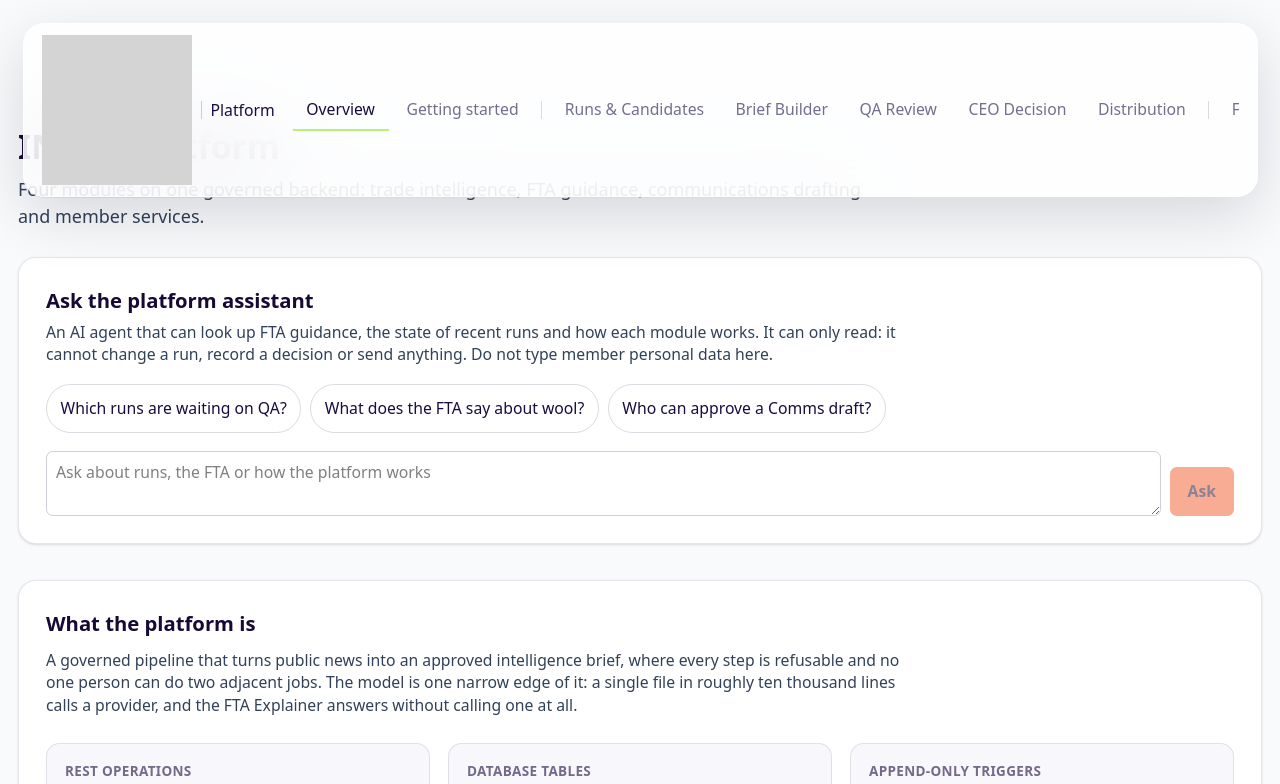
Test case: AppShell › opens on the newest run that has not finished
What coordinates should you click on to do the following:
click the button "Brief Builder"
I would click on:
 (782, 110)
Its box is [722,88,842,131].
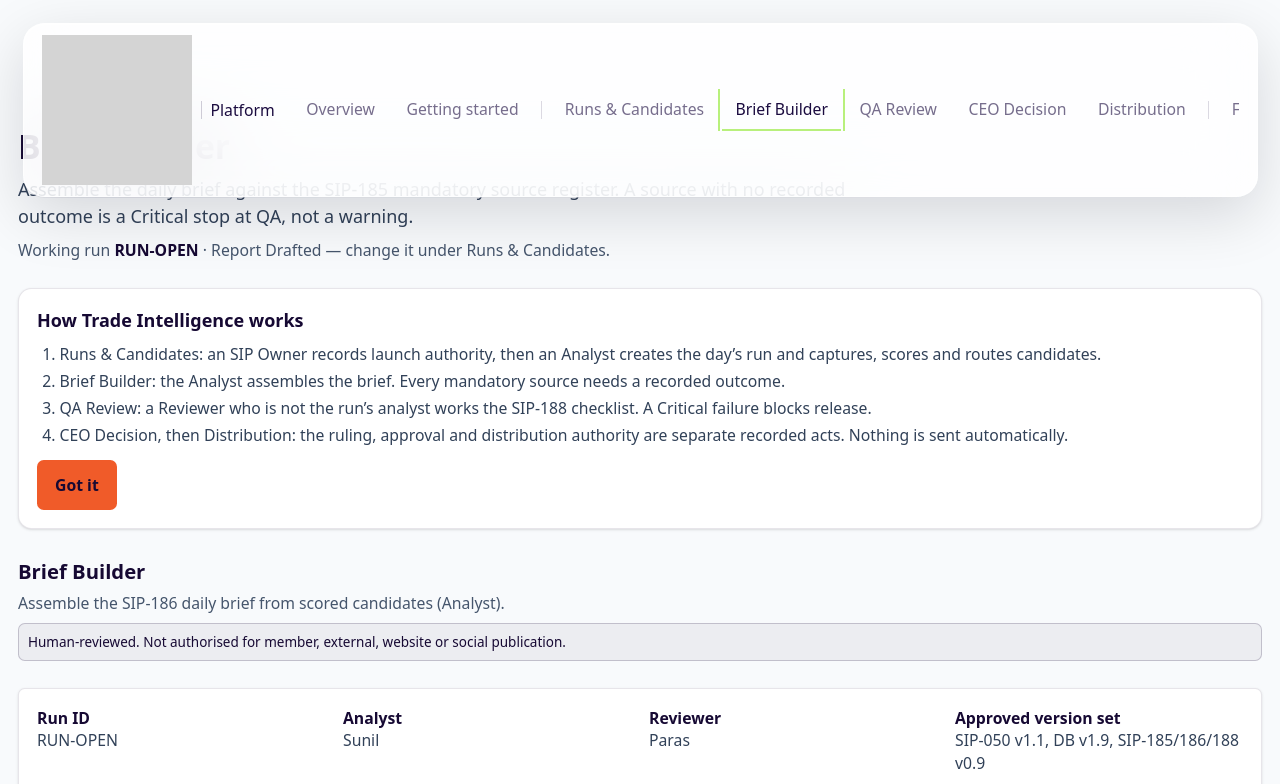
Expected: the text "Working run" is shown, [18,238,114,260]
Expected: the text "RUN-OPEN" next to "Working run" is shown, [114,238,199,260]
Expected: the text "Working run" shows "Report Drafted", [211,238,322,260]
